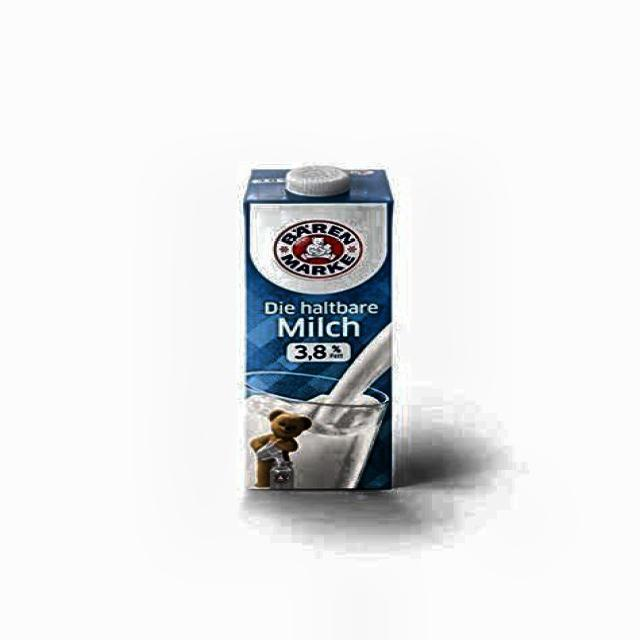cardboard: (242, 165, 394, 490)
